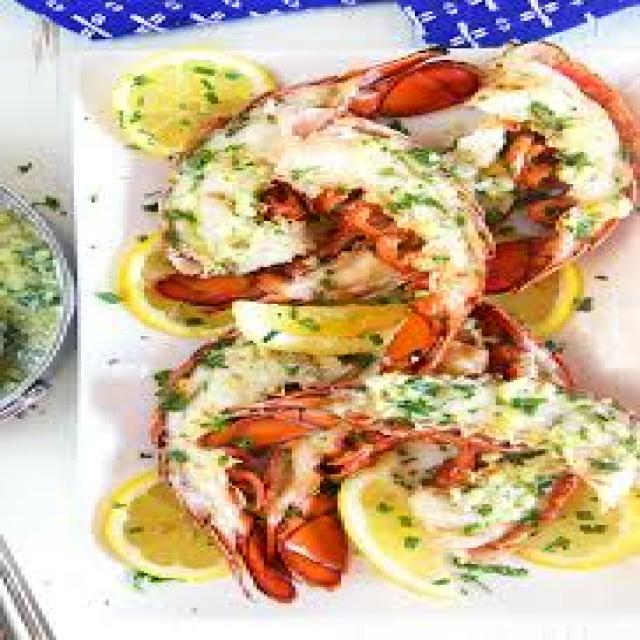lemon: (120, 49, 244, 140), (92, 479, 193, 578)
lobster tail: (356, 198, 482, 376), (273, 49, 465, 155)
